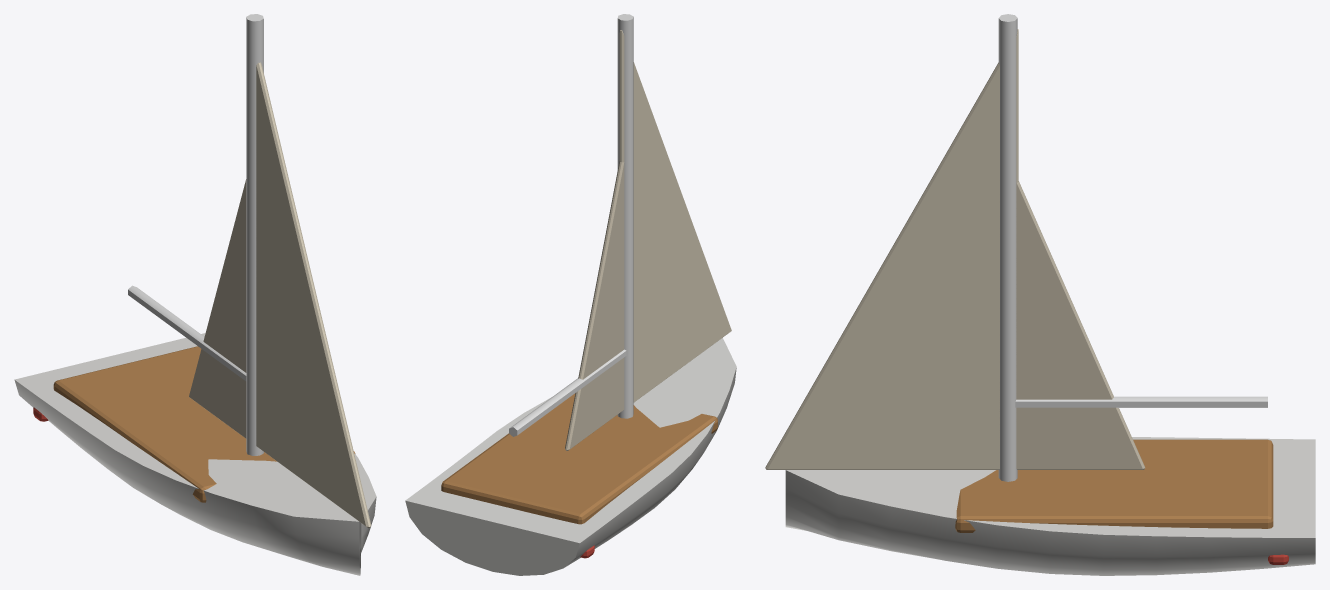
Rendered from sailboat.fbx.
The picture shows the model from 3 angles, left to right: view 1: azimuth 30°, elevation 25°; view 2: azimuth 150°, elevation 25°; view 3: azimuth 270°, elevation 25°; orthographic projection. The views are drawn at different scales.
Visible parts, largest first — view 1: Hull, Sail, Mast; view 2: Hull, Sail, Mast; view 3: Sail, Hull, Mast.
Boxes of the visible parts, box(x1,y1,x2,y2) form: Hull: box(14, 333, 376, 575); Sail: box(189, 62, 371, 528); Mast: box(128, 14, 263, 455); Hull: box(405, 338, 736, 575); Sail: box(565, 30, 731, 450); Mast: box(509, 14, 633, 436); Sail: box(765, 29, 1145, 469); Hull: box(785, 437, 1315, 575); Mast: box(998, 14, 1267, 481).
Bounding box in the file's own units: 0.44 × 1.13 × 1.04.
